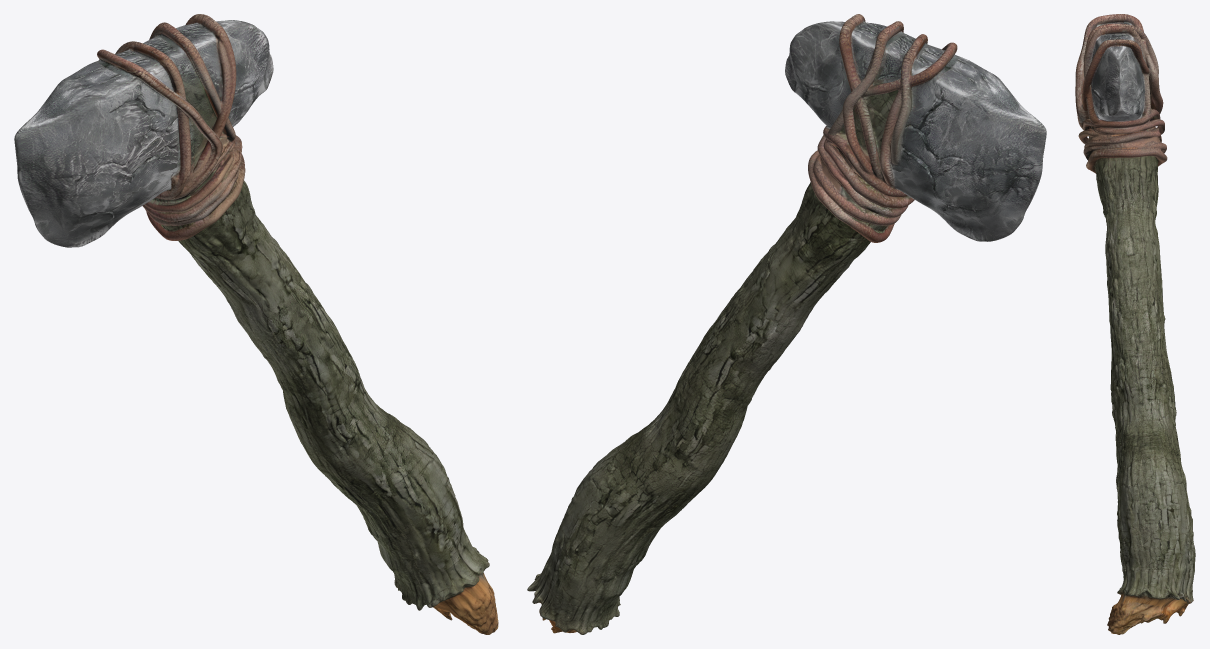
File: Ropebound_Stone_Axe_20260607.glb
3 views of the same model, side by side, from view 1: azimuth 30°, elevation 25°; view 2: azimuth 150°, elevation 25°; view 3: azimuth 270°, elevation 25° (orthographic). The views are drawn at different scales.
Size of the model in its own units: 1.44 by 1.9 by 0.4175.
1 material, 1 textured.
